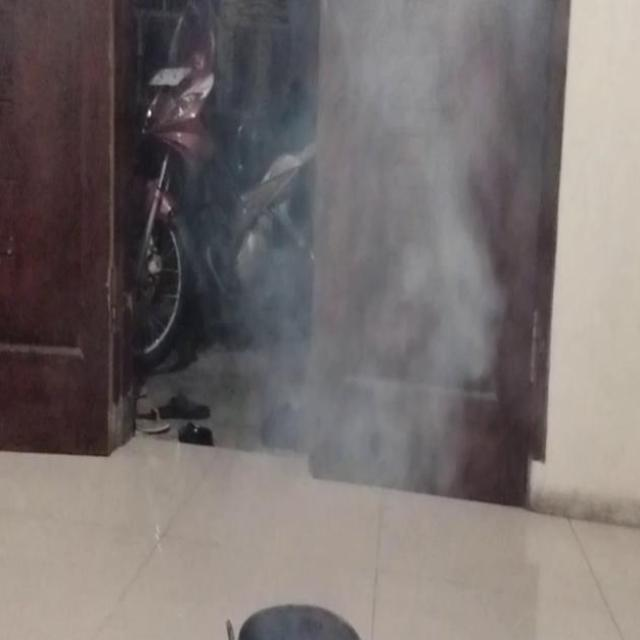fire: (248, 0, 534, 490)
